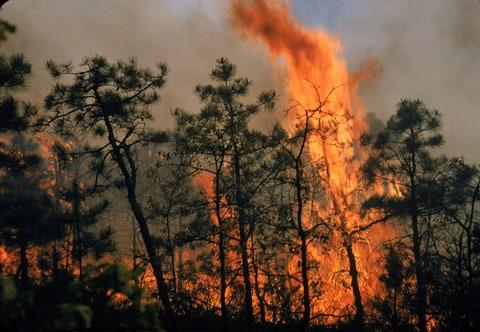fire: (217, 0, 428, 327), (105, 163, 255, 309), (28, 131, 80, 205), (1, 247, 88, 283)
